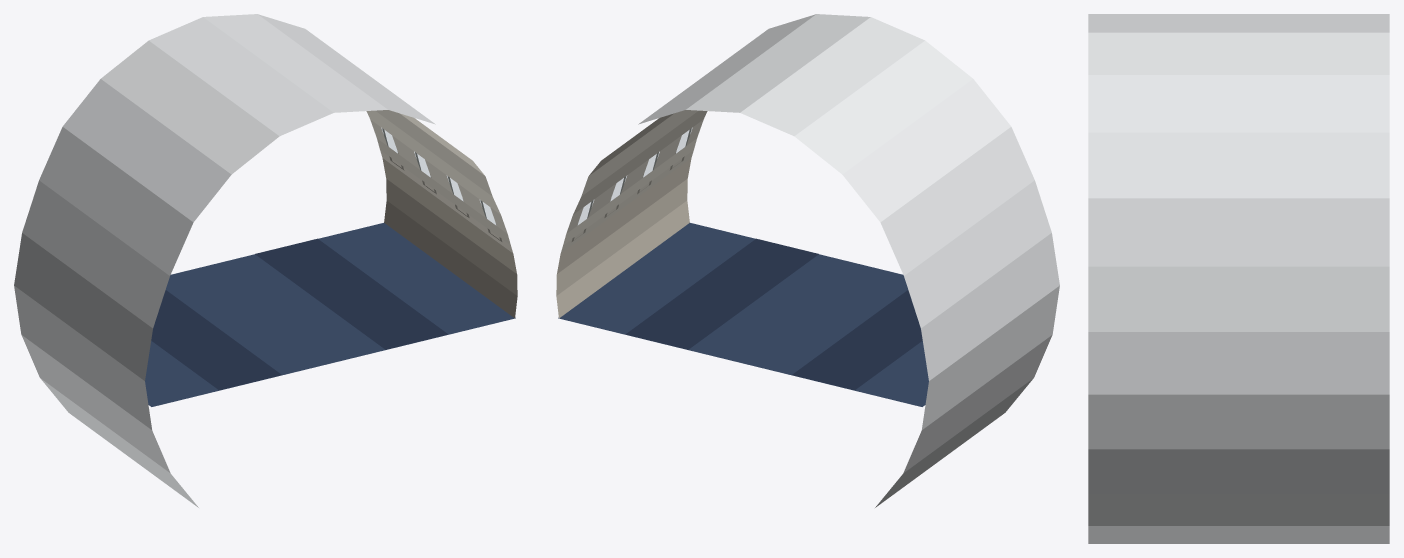
File: ac_section_straight.glb
3 views of the same model, side by side, from view 1: azimuth 30°, elevation 25°; view 2: azimuth 150°, elevation 25°; view 3: azimuth 270°, elevation 25° (orthographic). The views are drawn at different scales.
Parts seen in each view (by area): view 1: ac_section_straight; view 2: ac_section_straight; view 3: ac_section_straight.
Boxes of the visible parts, x1,y1,x2,y2 form: ac_section_straight: [14, 14, 517, 507]; ac_section_straight: [556, 14, 1059, 507]; ac_section_straight: [1088, 14, 1389, 543].
Size of the model in its own units: 6 by 6.47 by 3.6.
